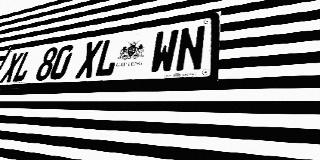0: (48, 44, 75, 80)
8: (33, 46, 60, 81)
L: (93, 37, 122, 77), (11, 50, 37, 82)
N: (175, 25, 206, 73)
W: (149, 29, 179, 74)
X: (75, 40, 103, 78), (0, 52, 24, 83)
